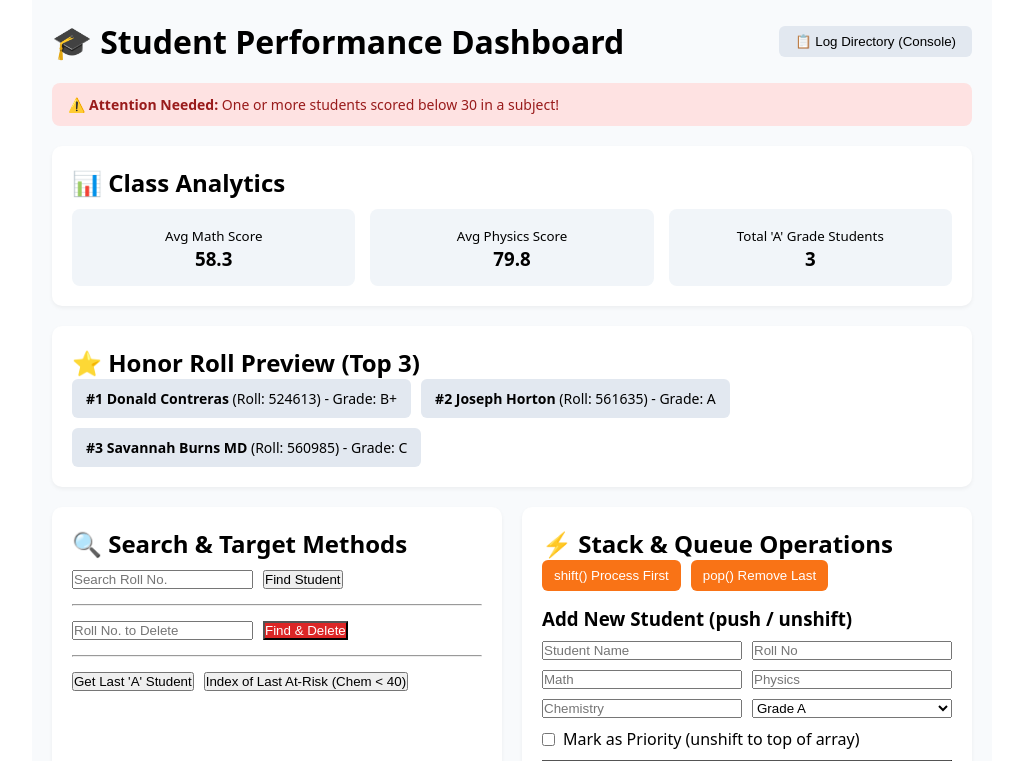
Test: StudentDashboard Component › Stack and queue operations (push + pop + unshift + shift) › should add a student to the start of the list using unshift when priority is checked
This screenshot has width=1024, height=761.
Type "Priority Alice" into the field with placeholder "Student Name" at (642, 650), box top-left (542, 641), bottom-right (742, 660)
Type "111111" into the number field with placeholder "Roll No" at (852, 650), box top-left (752, 641), bottom-right (952, 660)
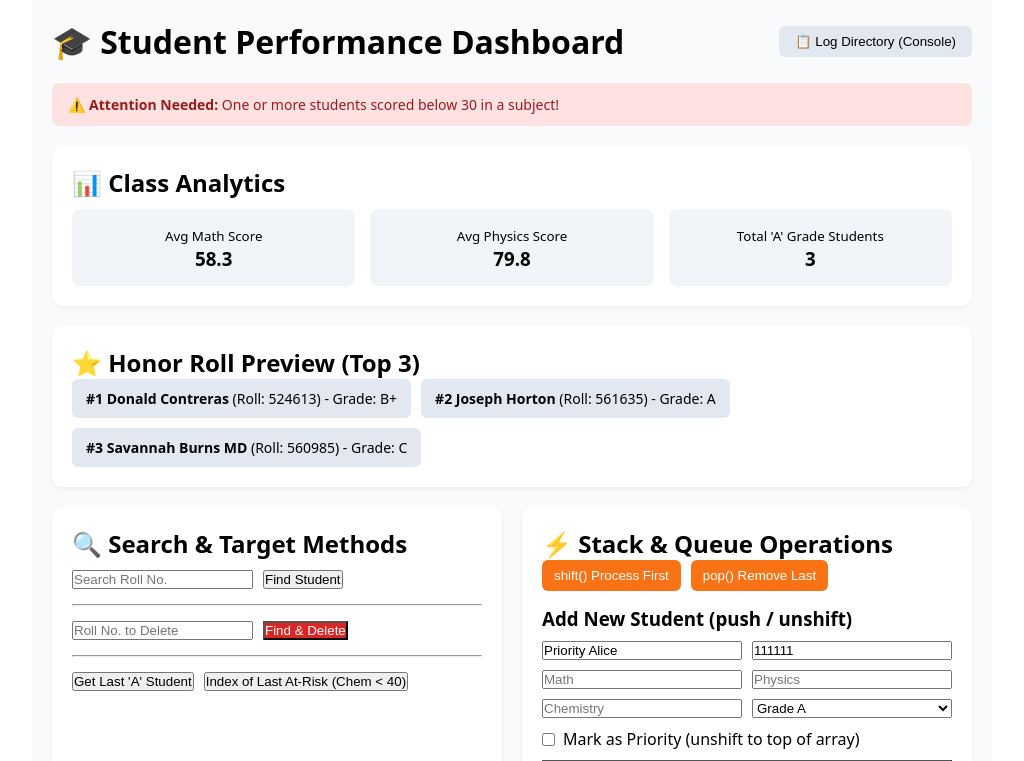
Type "95" into the number field with placeholder "Math" at (642, 680), box top-left (542, 670), bottom-right (742, 689)
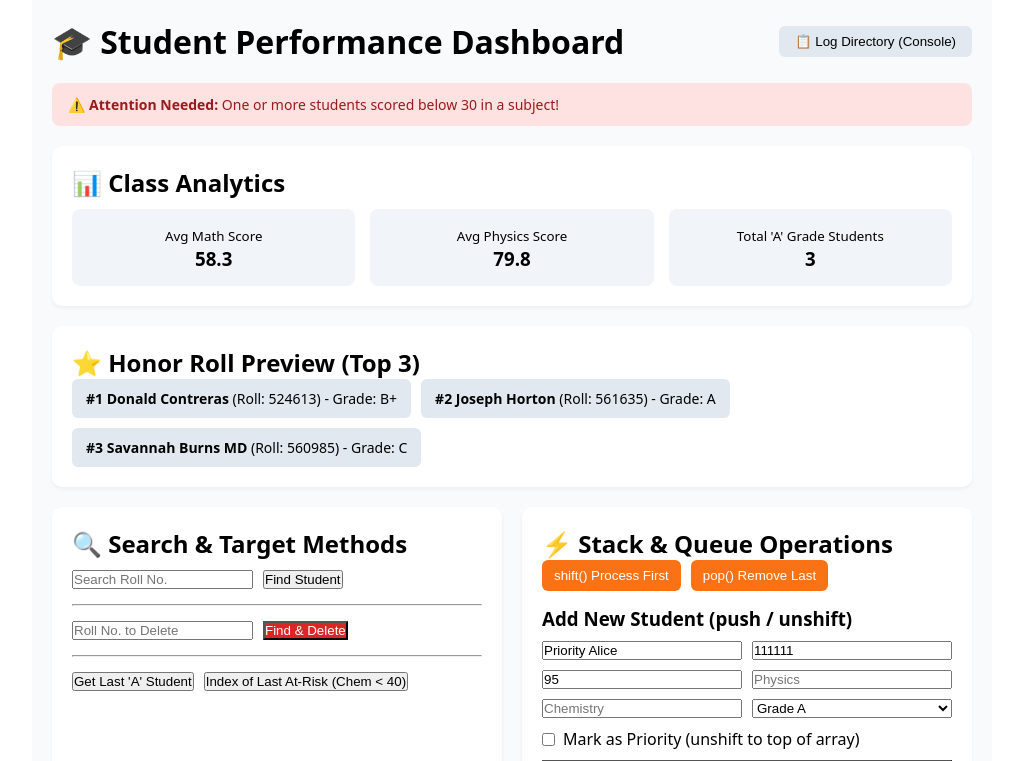
Type "98" into the number field with placeholder "Physics" at (852, 680), box top-left (752, 670), bottom-right (952, 689)
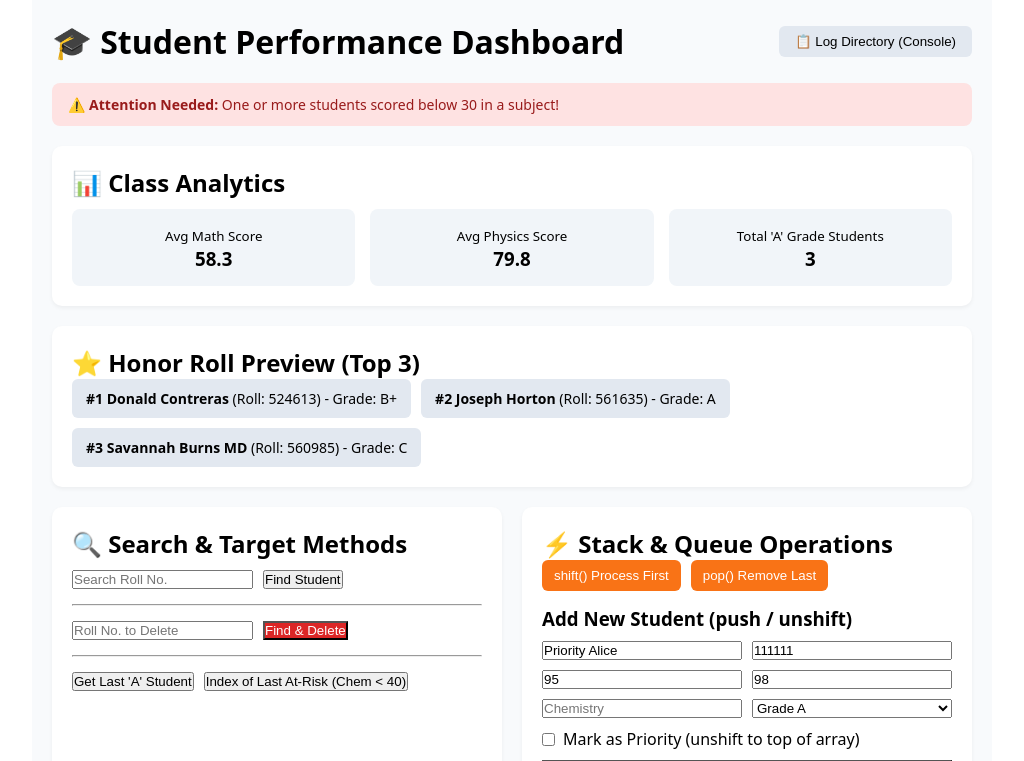
Type "92" into the number field with placeholder "Chemistry" at (642, 708), box top-left (542, 699), bottom-right (742, 718)
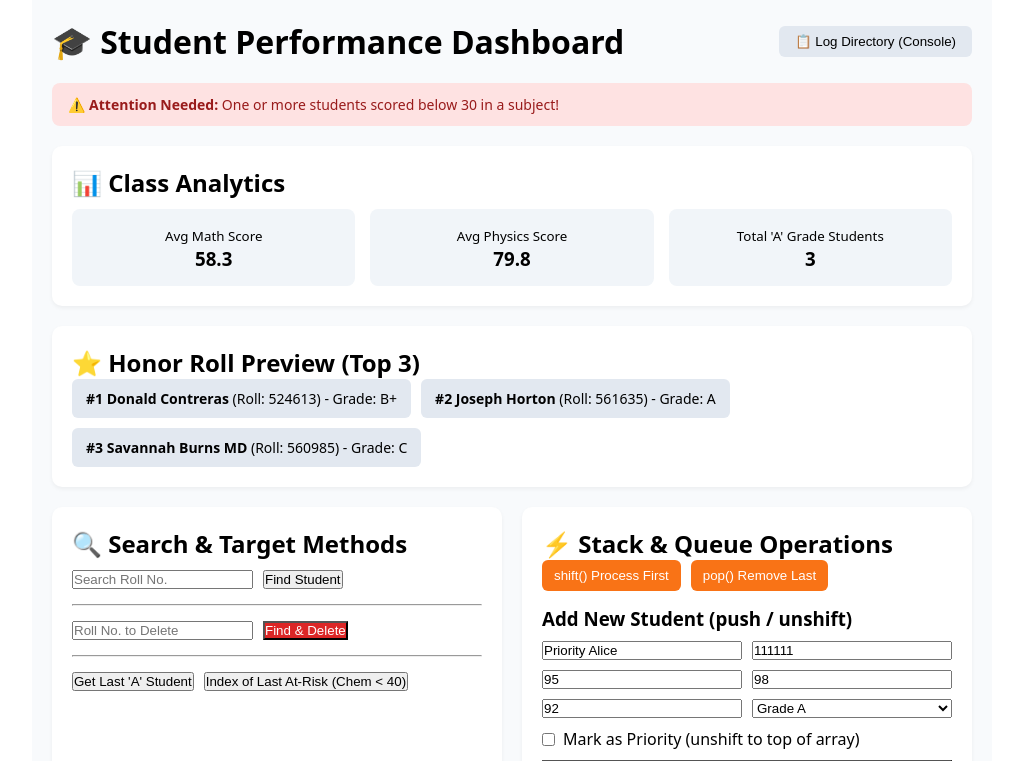
Click the checkbox labelled "Mark as Priority (unshift to top of array)" at (548, 739), box top-left (542, 732), bottom-right (555, 746)
(page scrolled)
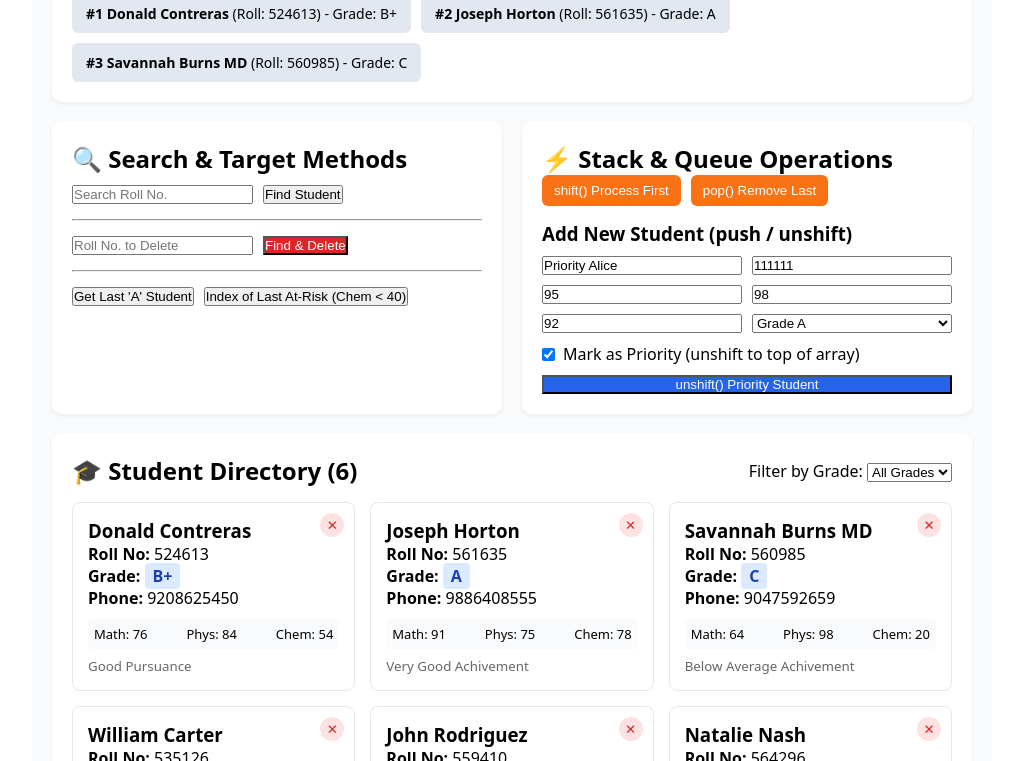
Click the button "unshift() Priority Student" at (747, 384), box top-left (542, 375), bottom-right (952, 394)
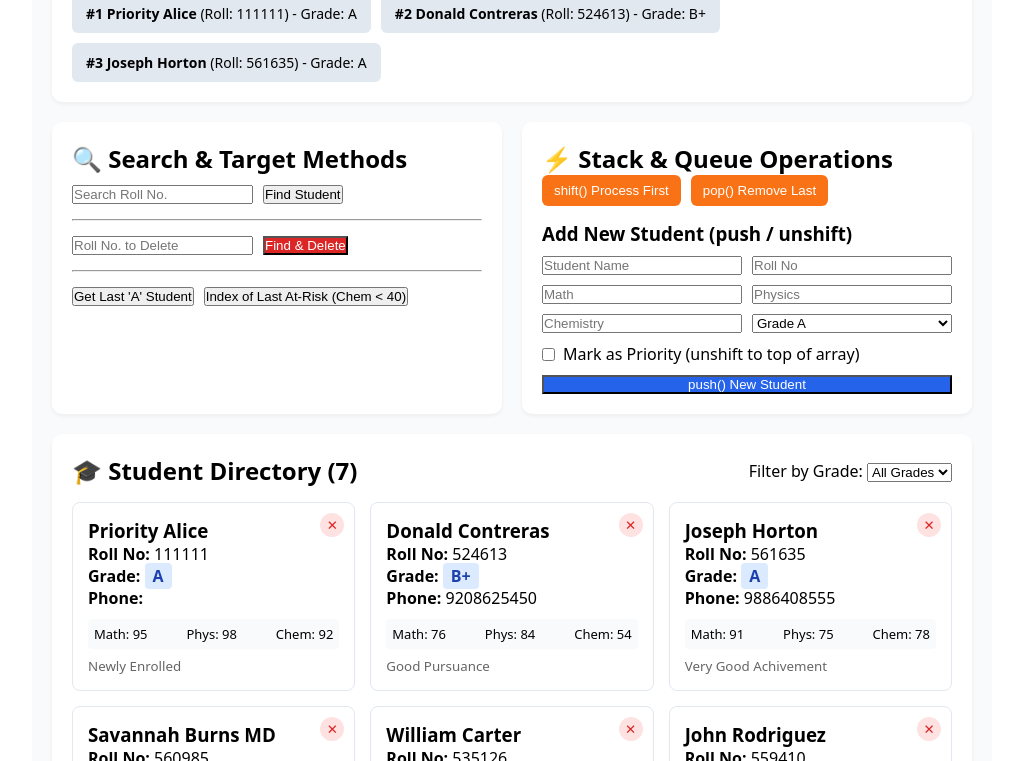
Now the heading "Priority Alice" is shown, box top-left (88, 518), bottom-right (208, 543)
